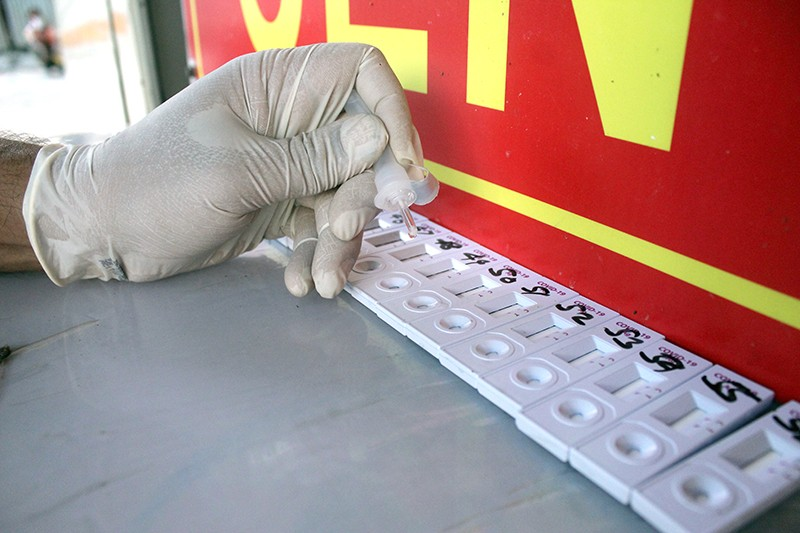Gloves: (35, 32, 441, 309)
